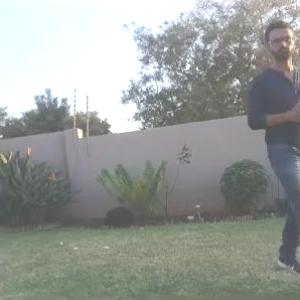follow: (243, 7, 299, 287)
